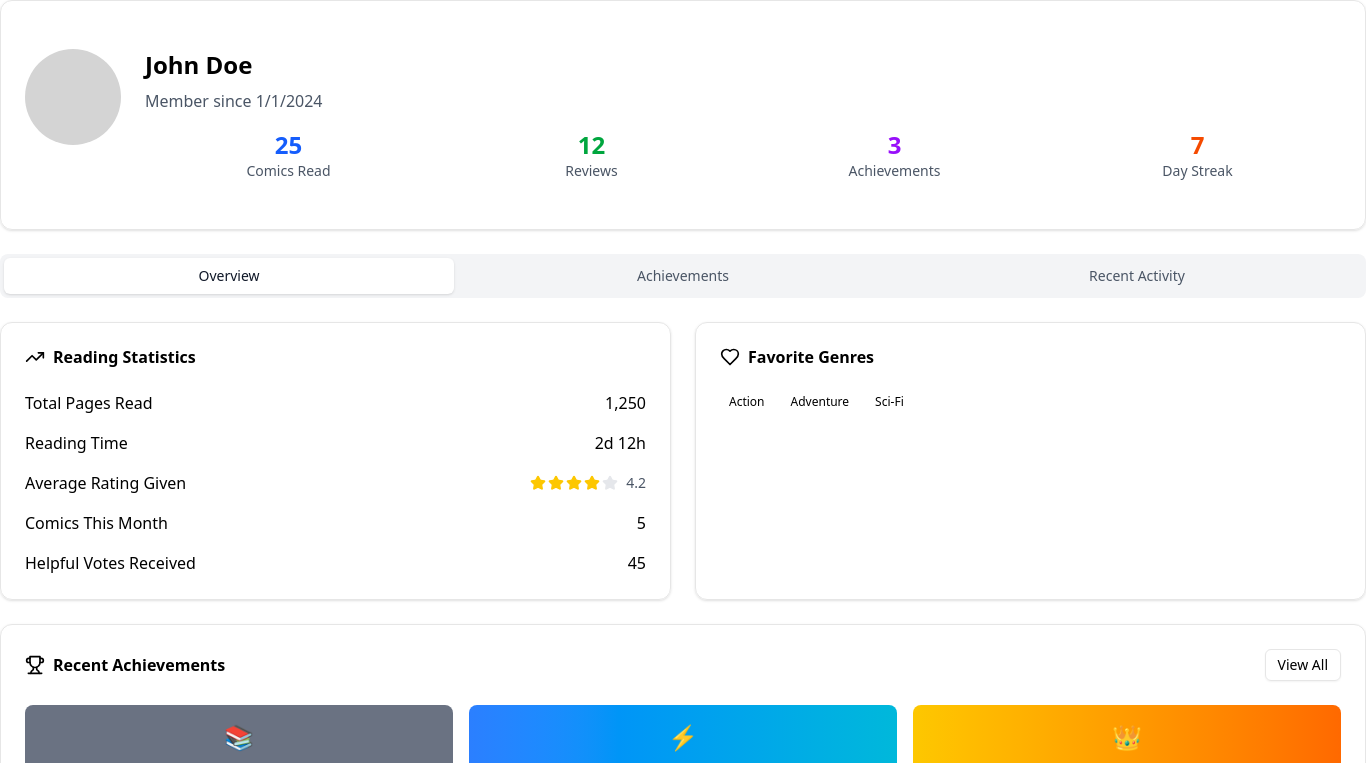
Scenario: UserProfile › displays achievements with correct rarity colors
Switch to achievements tab
Click the button "Achievements" at point(683, 276), box [458, 258, 908, 294]
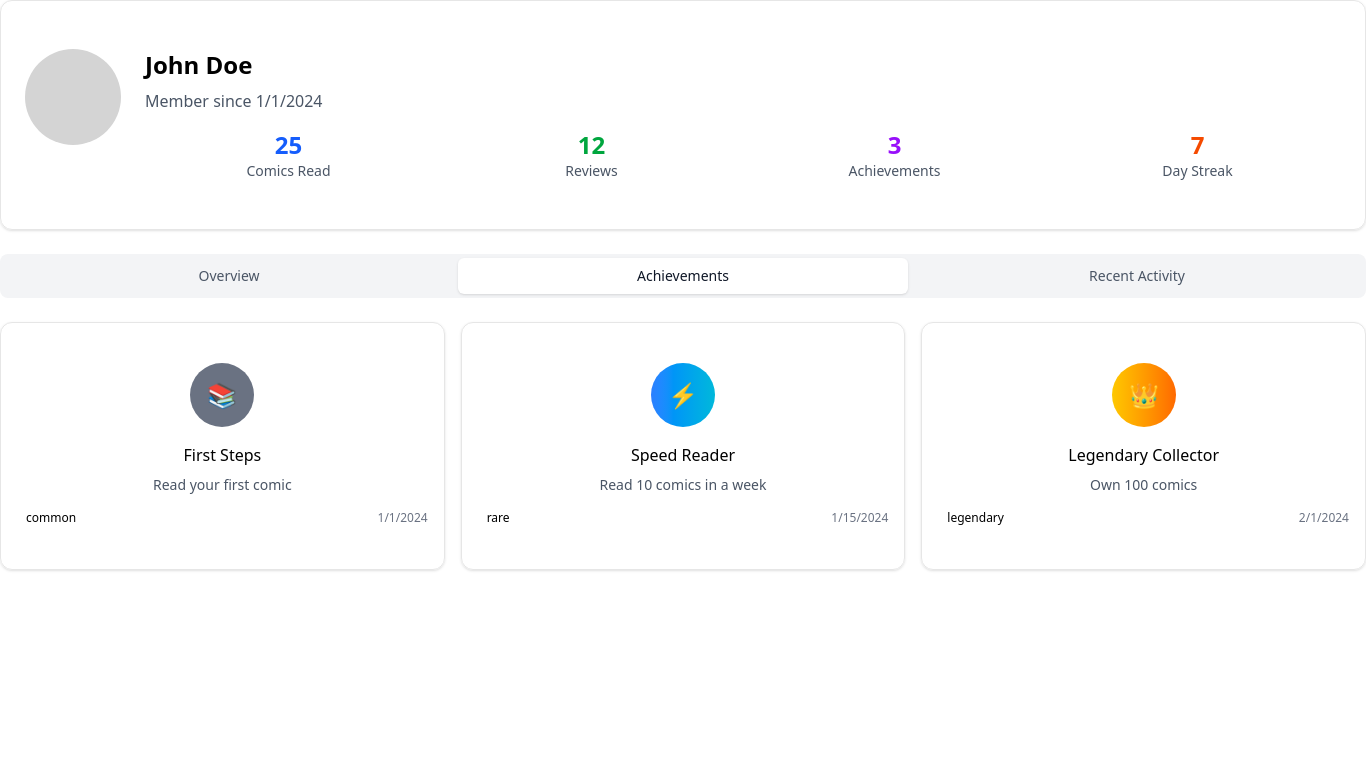
Result: the text "common" is shown at [26, 509, 76, 526]
Result: the text "rare" is shown at [487, 509, 510, 526]
Result: the text "legendary" is shown at [947, 509, 1004, 526]
